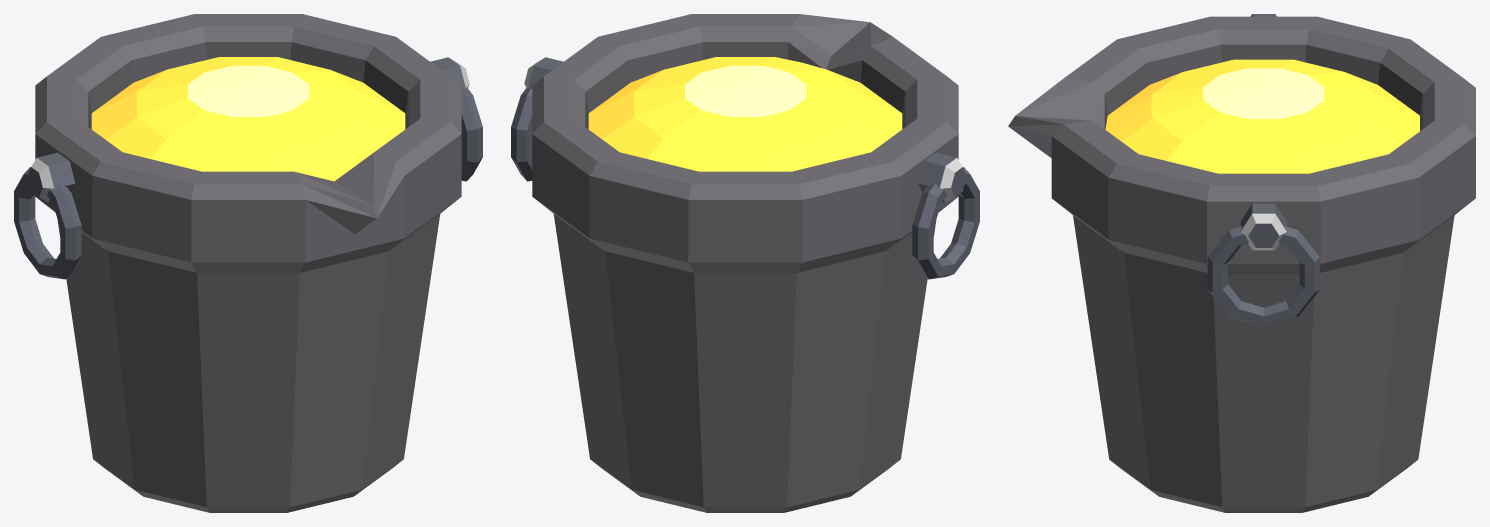
File: smelting-crucible-94d1dc.glb
3 views of the same model, side by side, from view 1: azimuth 30°, elevation 25°; view 2: azimuth 150°, elevation 25°; view 3: azimuth 270°, elevation 25° (orthographic).
Visible parts, largest first — view 1: crucible-body, molten-pool, ring-l-mesh, iron-lugs, ring-r-mesh; view 2: crucible-body, molten-pool, ring-l-mesh, iron-lugs, ring-r-mesh; view 3: crucible-body, molten-pool, ring-r-mesh, iron-lugs.
Part boxes in pixels (box(x1,y1,x2,y2)): crucible-body: box(35, 14, 461, 512); molten-pool: box(91, 57, 405, 181); ring-l-mesh: box(14, 167, 81, 279); iron-lugs: box(27, 57, 469, 202); ring-r-mesh: box(461, 86, 482, 181); crucible-body: box(532, 14, 958, 512); molten-pool: box(588, 57, 902, 171); ring-l-mesh: box(912, 167, 979, 279); iron-lugs: box(524, 57, 966, 202); ring-r-mesh: box(511, 86, 532, 181); crucible-body: box(1008, 16, 1475, 512); molten-pool: box(1105, 59, 1419, 173); ring-r-mesh: box(1207, 226, 1319, 326); iron-lugs: box(1240, 14, 1286, 250).
Size of the model in its own units: 0.506 by 0.414 by 0.483.
